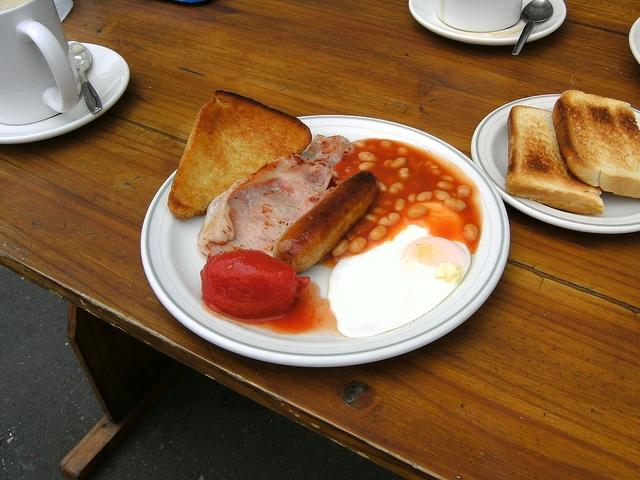tomato: (200, 249, 311, 319)
